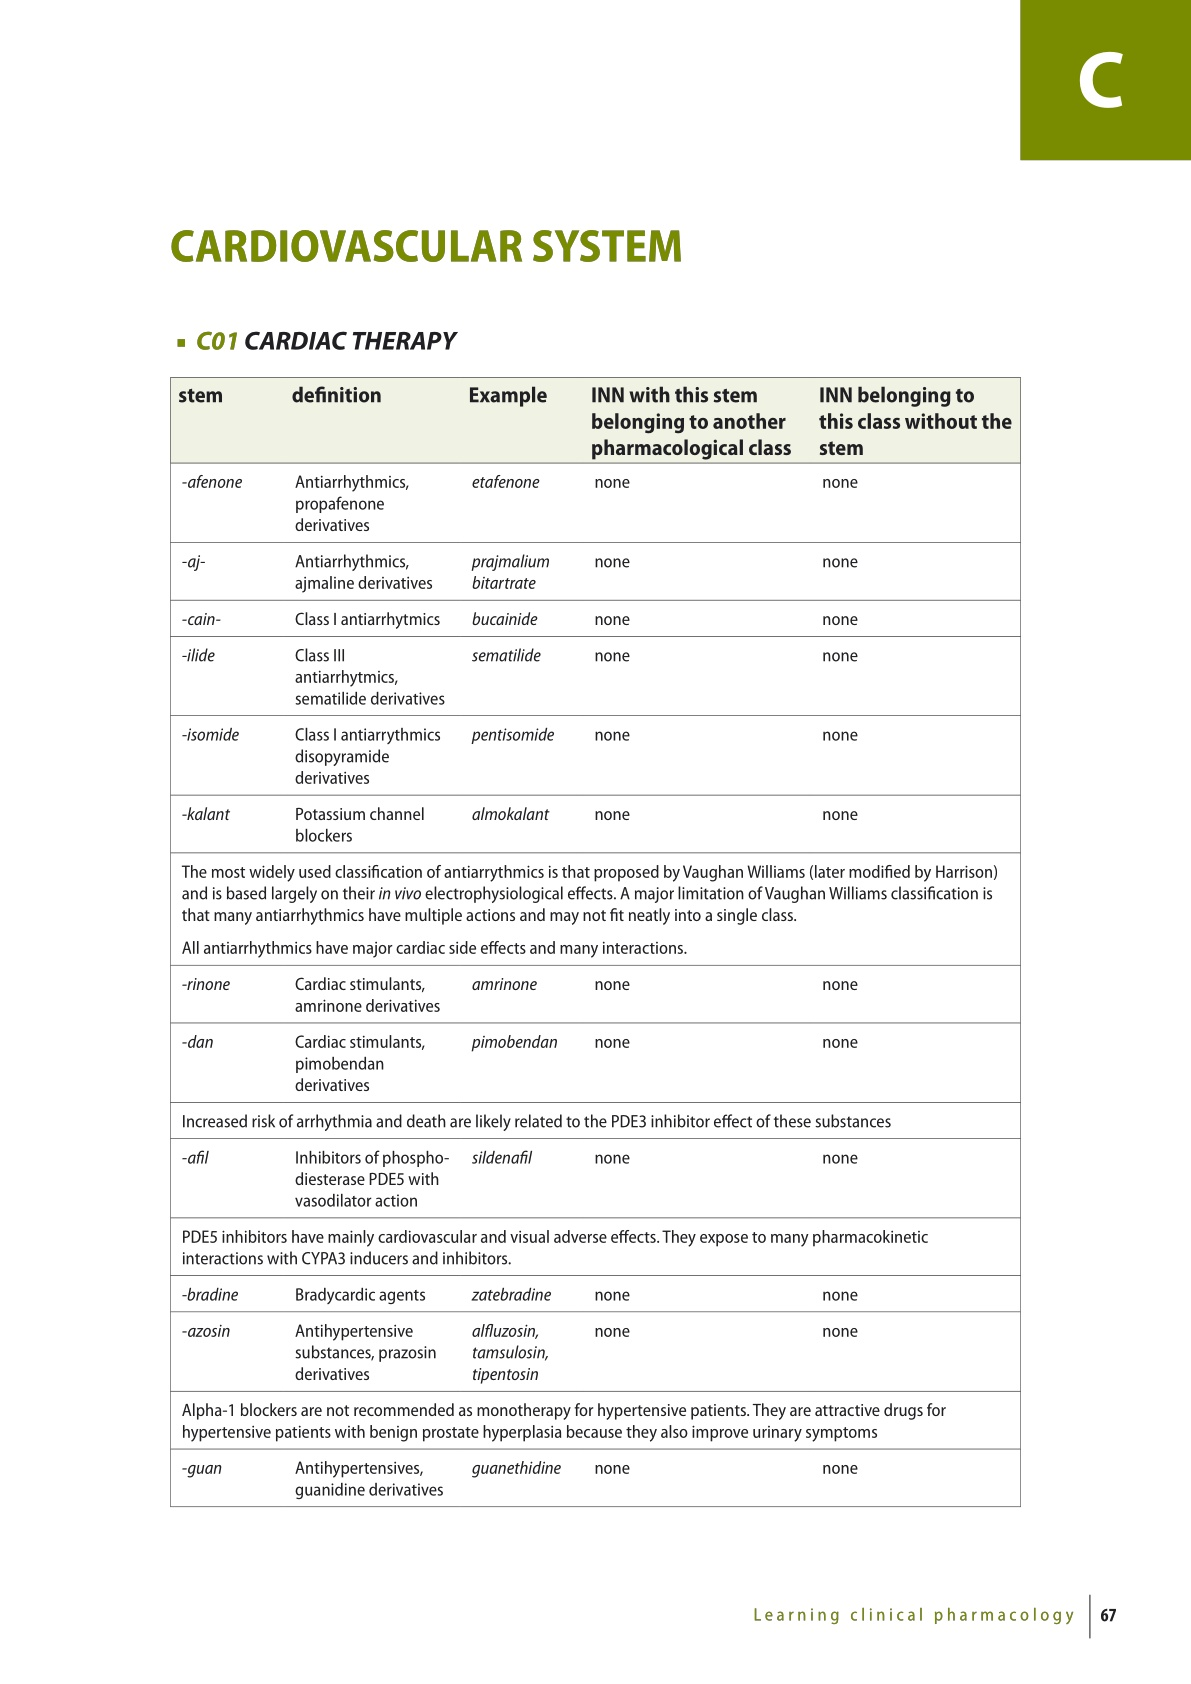partial_lined_merged_cells: (169, 375, 1022, 1507)
